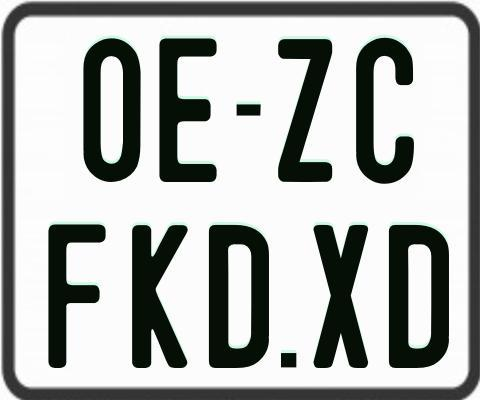0: (80, 35, 142, 185)
C: (356, 38, 418, 190)
D: (388, 225, 454, 371), (209, 223, 273, 370)
E: (159, 38, 220, 187)
F: (45, 224, 105, 370)
K: (129, 223, 185, 369)
X: (313, 222, 368, 367)
Z: (276, 39, 330, 186)
